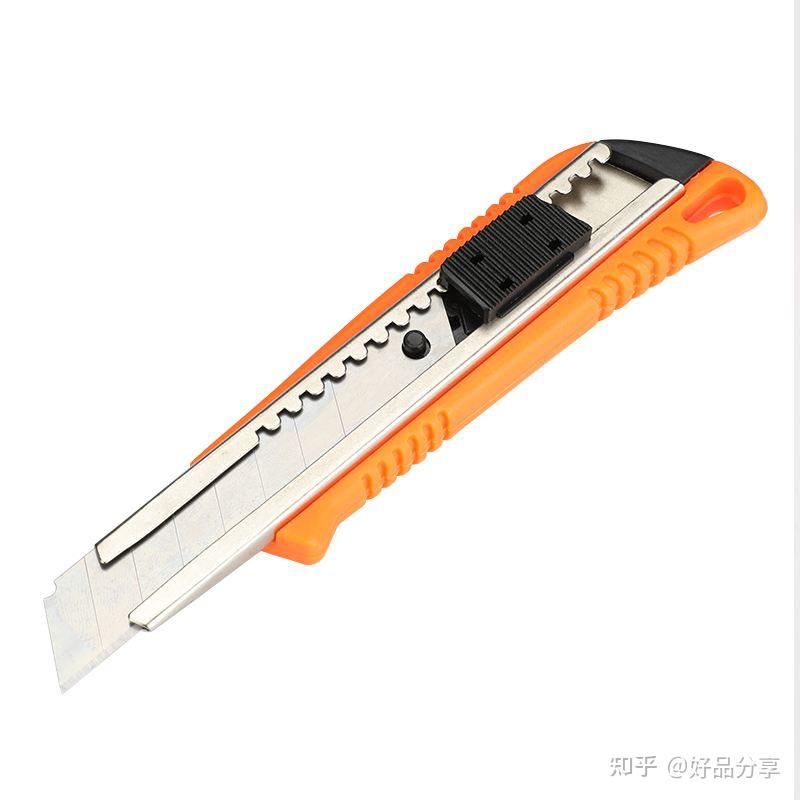cutter: (43, 138, 769, 698)
